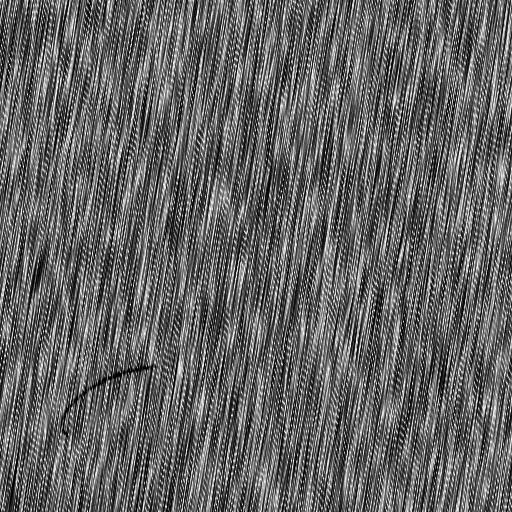DefectTypeC: (62, 360, 159, 433)
